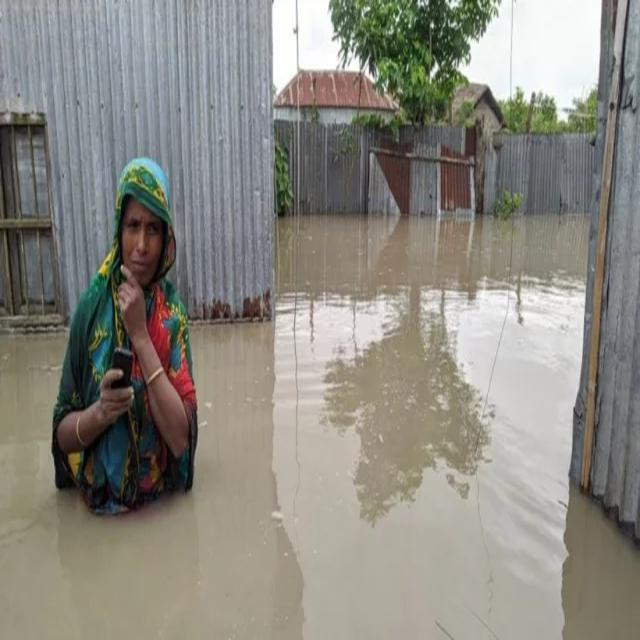Person-RiskLevel3: (51, 144, 206, 515)
